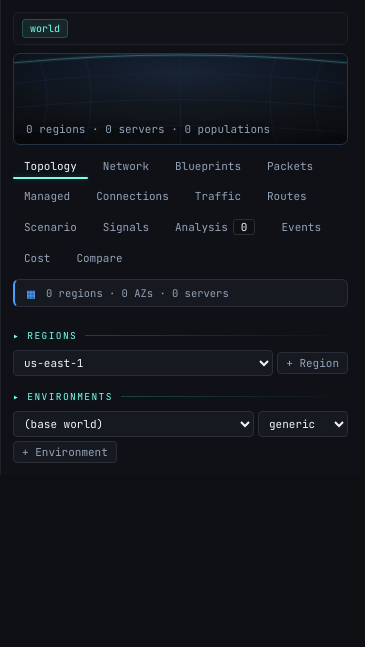
Scenario: WorldPanel findings tab › tab ink slides — clicking a tab still switches content with the ink element present
Step 1. Click the button "Traffic" → (218, 196), box [184,183,252,209]
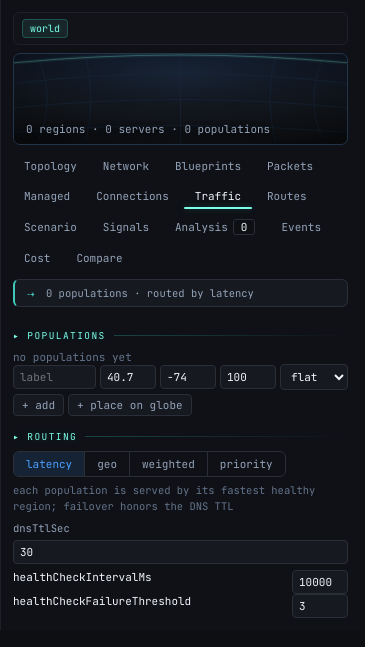
Expected: the element with class "kit-ink" is shown, [184,207,252,209]
Expected: the button "+ place on globe" is shown, [68,394,192,416]
